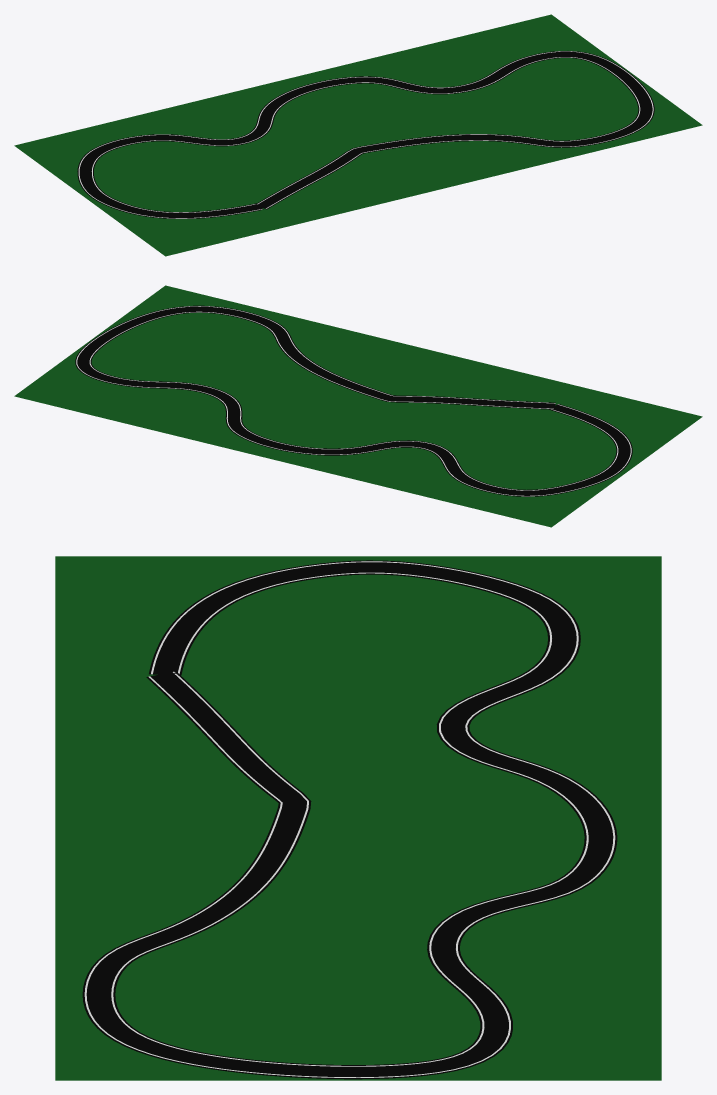
Rendered from tracktest.dae.
3 views of the same model, one above another, from view 1: azimuth 30°, elevation 25°; view 2: azimuth 150°, elevation 25°; view 3: azimuth 270°, elevation 25° (orthographic). The views are drawn at different scales.
Parts seen in each view (by area): view 1: Plane, Cube; view 2: Plane, Cube; view 3: Plane, Cube.
Boxes of the visible parts, left/top/right/bottom form: Plane: left=14, top=14, right=702, bottom=256; Cube: left=77, top=51, right=654, bottom=218; Plane: left=14, top=285, right=702, bottom=527; Cube: left=75, top=305, right=632, bottom=496; Plane: left=55, top=556, right=661, bottom=1080; Cube: left=82, top=560, right=617, bottom=1079.
Bounding box in the file's own units: 34.92 × 17.05 × 0.0146.
